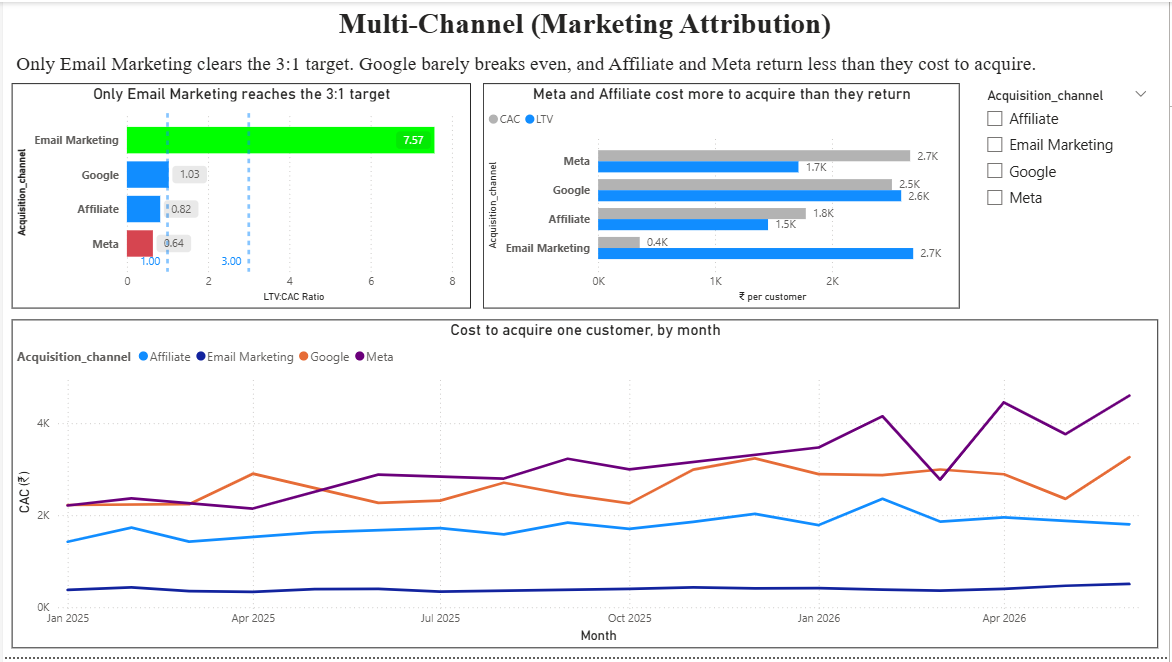

The page's visual inventory and layout, read from the dashboard file:
{"tool":"powerbi","page":{"name":"Page 2","canvas":[1280,720],"ordinal":1},"visuals":[{"type":"textbox","box":[9.6,0,1258.3,50.8],"z":0},{"type":"textbox","box":[9.3,51.2,1258.1,38.4],"z":1000},{"type":"slicer","fields":{"Values":["summary1.Acquisition_channel"]},"box":[1067.6,89.2,200.3,150.9],"z":2000},{"type":"clusteredBarChart","title":"Only Email Marketing reaches the 3:1 target","fields":{"Y":["Sum(summary1.LTV_CAC_Ratio)"],"Category":["summary1.Acquisition_channel"]},"box":[9.6,89.2,503.6,247],"z":3000},{"type":"clusteredBarChart","title":"Meta and Affiliate cost more to acquire than they return","fields":{"Category":["summary1.Acquisition_channel"],"Y":["Sum(summary1.Avg_CAC)","Sum(summary1.Avg_LTV)"]},"box":[526.9,89.2,522.8,247],"z":4000},{"type":"lineChart","title":"Cost to acquire one customer, by month","fields":{"Y":["Avg(cac1.CAC)"],"Series":["cac1.Acquisition_channel"],"Category":["cac1.signup_month"]},"box":[9.6,348.5,1258.3,360.9],"z":5000}]}

Visuals, with their boxes in screenshot pixels (x1, y1, x2, y2), scaled from the page's 1280x720 canvas onto the 1172x662 screenshot:
textbox: region(9, 0, 1161, 47)
textbox: region(9, 47, 1160, 82)
slicer - summary1.Acquisition_channel: region(978, 82, 1161, 221)
"Only Email Marketing reaches the 3:1 target" clusteredBarChart: region(9, 82, 470, 309)
"Meta and Affiliate cost more to acquire than they return" clusteredBarChart: region(482, 82, 961, 309)
"Cost to acquire one customer, by month" lineChart: region(9, 320, 1161, 652)
